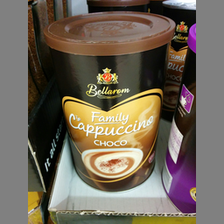chocolate: (43, 9, 176, 191)
